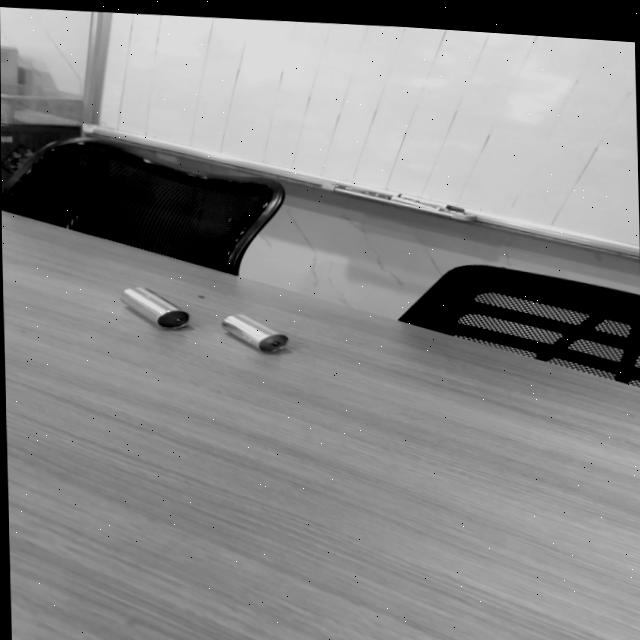Co_Lon: (115, 277, 191, 338)
Co_Nho: (217, 306, 288, 359)
